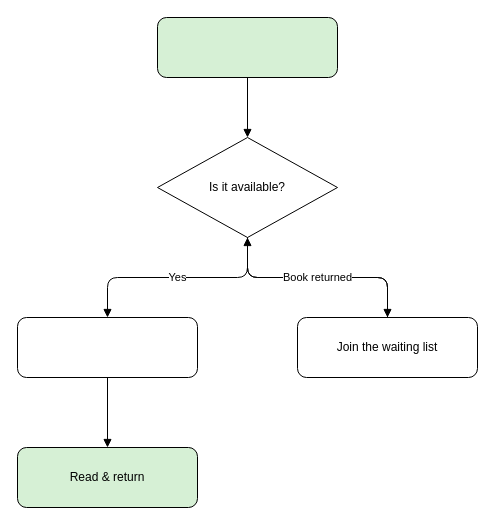
This 495x525 diagram has some shape labels left out. Here are the shapes that lost their labels. From the top down, the centre of each, then its label:
At point 247,47: "Find a book".
At point 107,347: "Borrow the book".
